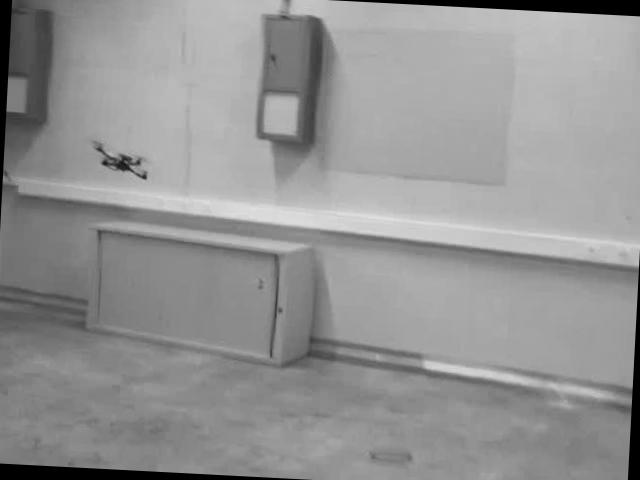drone: (83, 136, 153, 182)
